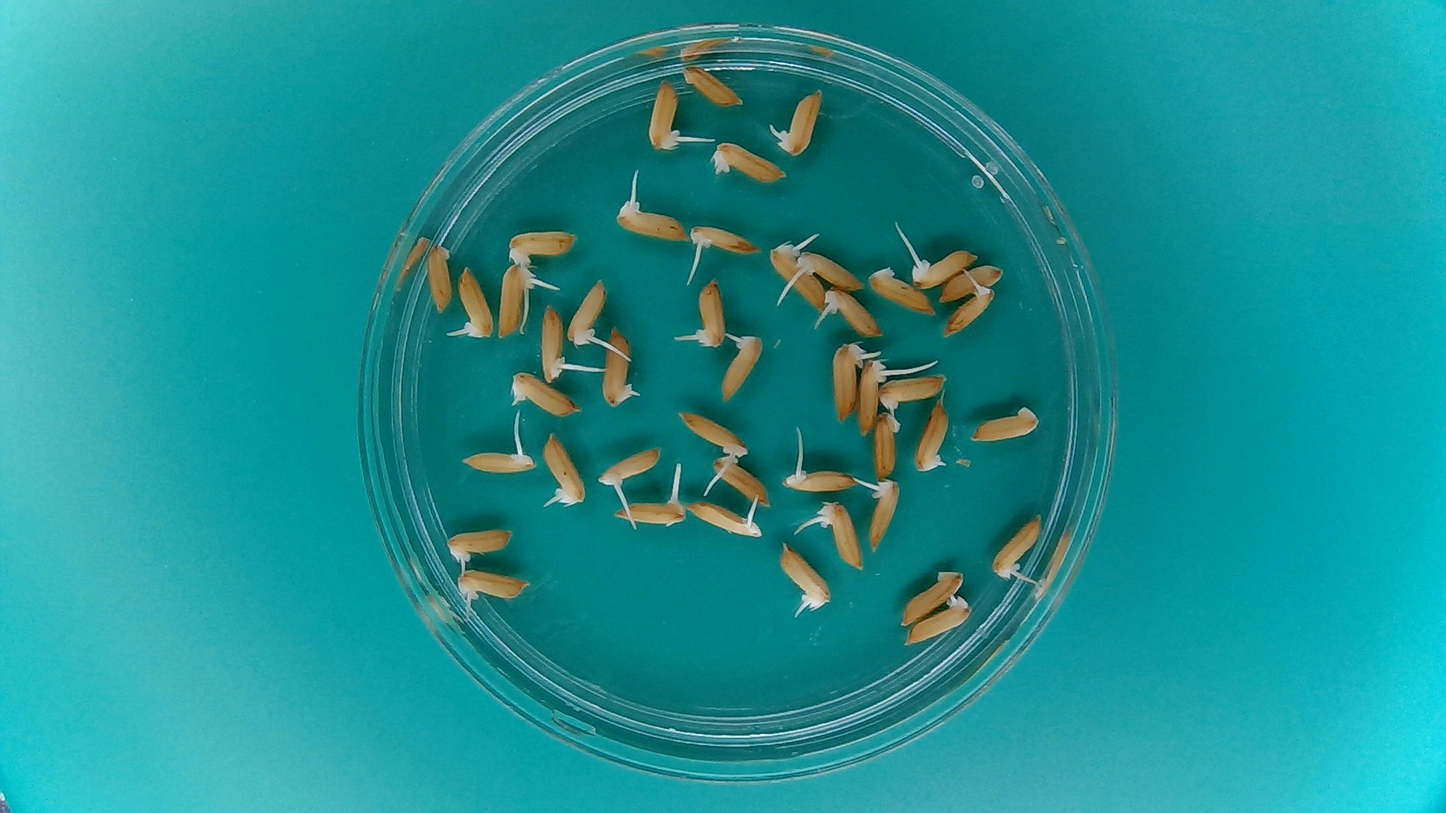no: (895, 564, 968, 626), (673, 405, 752, 461), (708, 138, 790, 187), (867, 264, 935, 316), (967, 401, 1045, 444), (677, 62, 744, 109), (877, 371, 950, 413), (938, 264, 1006, 304), (871, 410, 903, 482), (426, 239, 456, 315)
yes: (901, 593, 975, 647), (705, 454, 773, 509), (770, 242, 819, 318), (994, 509, 1047, 579), (776, 550, 830, 617), (685, 501, 767, 545), (544, 428, 589, 507), (595, 443, 664, 493), (825, 340, 866, 424), (612, 203, 694, 245), (821, 285, 883, 340), (602, 324, 641, 410), (912, 395, 953, 476), (510, 372, 580, 419), (718, 333, 763, 405), (537, 300, 575, 383), (455, 261, 493, 344), (444, 522, 517, 565), (863, 474, 902, 554), (797, 248, 871, 290), (609, 489, 688, 528), (943, 286, 1001, 339), (910, 247, 980, 290), (496, 265, 535, 341), (566, 279, 608, 349), (819, 504, 862, 572), (779, 90, 821, 157), (858, 355, 890, 438), (510, 228, 578, 265), (457, 570, 529, 604), (458, 446, 539, 476), (691, 224, 764, 257), (692, 282, 726, 349), (646, 82, 679, 151), (780, 467, 853, 494)
